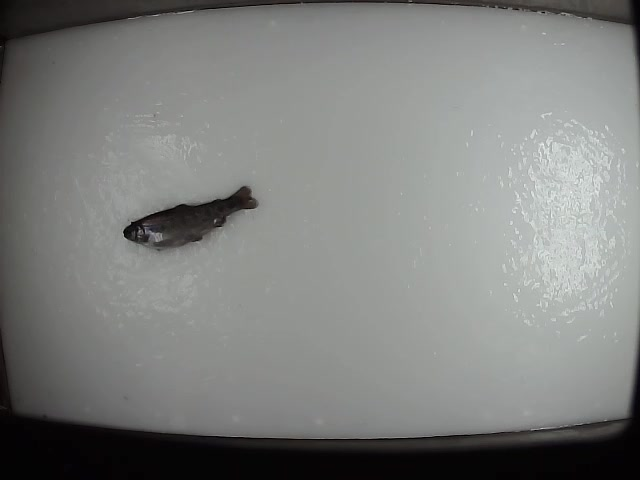fish: (119, 183, 261, 249)
